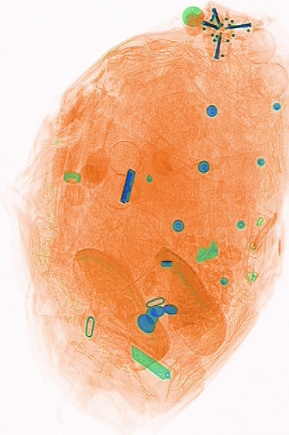jswkdaopian: (129, 344, 173, 380)
